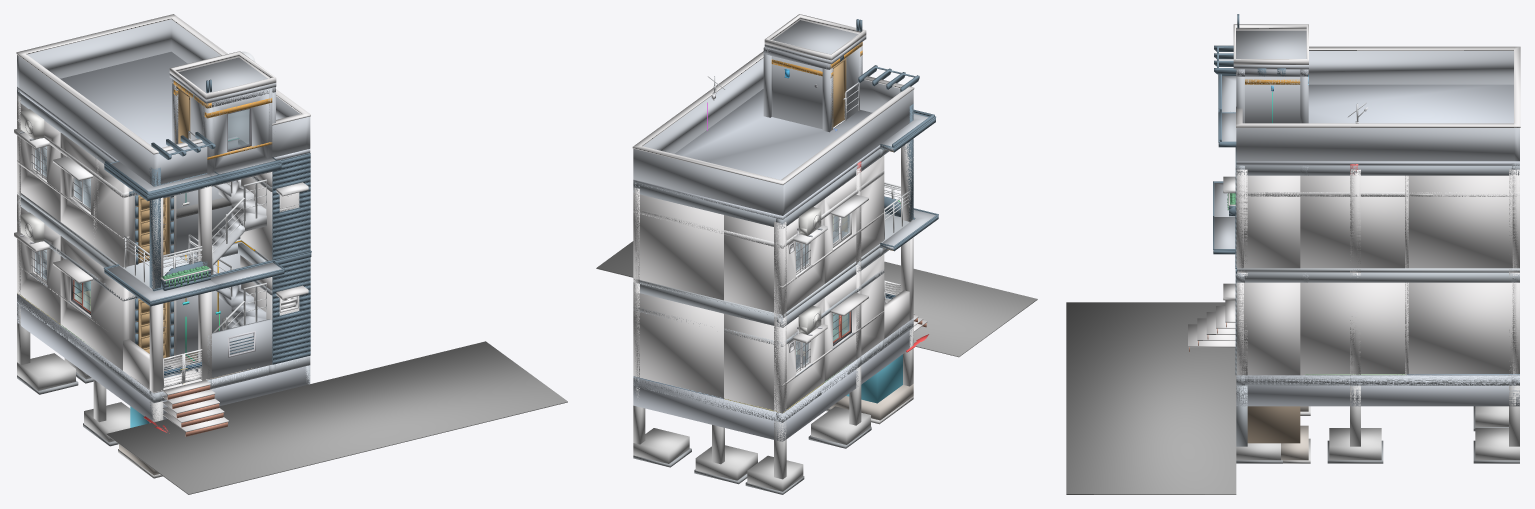
Rendered from HomeConstruction_Mobile.glb.
The picture shows the model from 3 angles, left to right: view 1: azimuth 30°, elevation 25°; view 2: azimuth 150°, elevation 25°; view 3: azimuth 270°, elevation 25°; orthographic projection. The views are drawn at different scales.
Parts seen in each view (by area): view 1: Road_Level, Terrace_Parapet_Wall__1000mm_Masonry_, Terrace_Roof_Slab__125mm_RCC_, Foundation, FF_Living_Room_Wall_East, Living_Room_Wall_East, Headroom_Weatherproof_Walls__2_2m_, FF_West_Tower_Dark_Charcoal_Feature_Slats, GF_West_Tower_Dark_Charcoal_Feature_Slats, Terrace_Parapet_Coping__Precast_Tile_, Staircase_North_Wall__Up_to_Mid-Landing_, Kitchen_Wall_East (+40 smaller); view 2: Terrace_Parapet_Wall__1000mm_Masonry_, Terrace_Roof_Slab__125mm_RCC_, FF_Bedroom_Wall_South, Road_Level, Bedroom_Wall_South, Foundation, Kitchen_Wall_South, FF_Kitchen_Wall_South, Headroom_Weatherproof_Walls__2_2m_, Living_Room_Wall_East, FF_Living_Room_Wall_East, Terrace_Parapet_Coping__Precast_Tile_ (+36 smaller); view 3: Road_Level, Terrace_Parapet_Wall__1000mm_Masonry_, Bedroom_Wall_West, FF_Bedroom_Wall_West, Living_Room_Wall_West, Terrace_Roof_Slab__125mm_RCC_, FF_Living_Room_Wall_West, Foundation, Toilet_Wall_West, FF_Toilet_Wall_West, Terrace_Parapet_Coping__Precast_Tile_, RB1_West_Flank__Grid_4_ (+27 smaller).
Part boxes in pixels (bbox=[...]): Road_Level: bbox=[106, 341, 567, 494]; Terrace_Parapet_Wall__1000mm_Masonry_: bbox=[17, 19, 310, 186]; Terrace_Roof_Slab__125mm_RCC_: bbox=[17, 51, 310, 161]; Foundation: bbox=[17, 293, 309, 421]; FF_Living_Room_Wall_East: bbox=[60, 133, 129, 267]; Living_Room_Wall_East: bbox=[60, 236, 129, 370]; Headroom_Weatherproof_Walls__2_2m_: bbox=[173, 82, 272, 171]; FF_West_Tower_Dark_Charcoal_Feature_Slats: bbox=[272, 154, 310, 260]; GF_West_Tower_Dark_Charcoal_Feature_Slats: bbox=[272, 257, 310, 364]; Terrace_Parapet_Coping__Precast_Tile_: bbox=[16, 14, 310, 154]; Staircase_North_Wall__Up_to_Mid-Landing_: bbox=[207, 319, 272, 379]; Kitchen_Wall_East: bbox=[17, 205, 60, 324]; Terrace_Parapet_Wall__1000mm_Masonry_: bbox=[633, 58, 913, 215]; Terrace_Roof_Slab__125mm_RCC_: bbox=[633, 89, 880, 219]; FF_Bedroom_Wall_South: bbox=[633, 193, 723, 300]; Road_Level: bbox=[596, 241, 1037, 357]; Bedroom_Wall_South: bbox=[633, 292, 723, 398]; Foundation: bbox=[633, 318, 913, 441]; Kitchen_Wall_South: bbox=[724, 313, 786, 412]; FF_Kitchen_Wall_South: bbox=[724, 215, 786, 314]; Headroom_Weatherproof_Walls__2_2m_: bbox=[771, 45, 862, 129]; Living_Room_Wall_East: bbox=[824, 254, 884, 381]; FF_Living_Room_Wall_East: bbox=[824, 155, 884, 283]; Terrace_Parapet_Coping__Precast_Tile_: bbox=[632, 51, 914, 184]; Road_Level: bbox=[1066, 302, 1236, 494]; Terrace_Parapet_Wall__1000mm_Masonry_: bbox=[1236, 51, 1519, 161]; Bedroom_Wall_West: bbox=[1406, 282, 1519, 375]; FF_Bedroom_Wall_West: bbox=[1406, 175, 1519, 268]; Living_Room_Wall_West: bbox=[1300, 282, 1406, 375]; Terrace_Roof_Slab__125mm_RCC_: bbox=[1236, 84, 1519, 165]; FF_Living_Room_Wall_West: bbox=[1300, 175, 1406, 268]; Foundation: bbox=[1236, 375, 1519, 406]; Toilet_Wall_West: bbox=[1236, 282, 1300, 375]; FF_Toilet_Wall_West: bbox=[1236, 175, 1300, 268]; Terrace_Parapet_Coping__Precast_Tile_: bbox=[1236, 46, 1520, 127]; RB1_West_Flank__Grid_4_: bbox=[1236, 272, 1519, 282].
Bounding box in the file's own units: 12.19 × 11.79 × 12.21.
